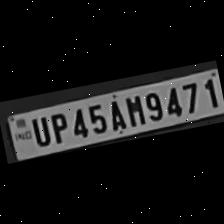1: (196, 76, 222, 110)
4: (158, 84, 183, 119), (65, 104, 89, 140)
5: (83, 100, 108, 136)
7: (178, 78, 203, 114)
9: (140, 88, 165, 122)
A: (104, 96, 128, 133)
M: (120, 92, 146, 128)
P: (46, 109, 71, 144)
U: (27, 113, 51, 147)
